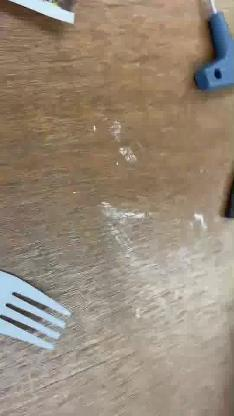Others: (0, 268, 76, 356)
